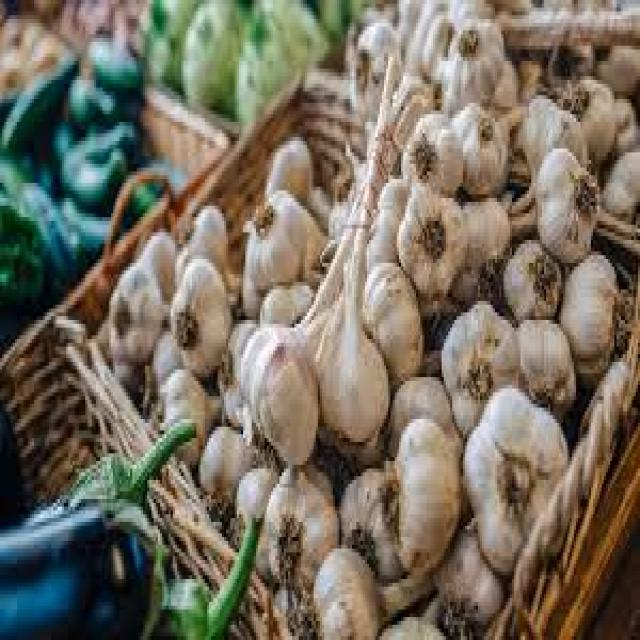Garlic: (449, 388, 569, 544), (373, 408, 472, 566), (432, 287, 520, 423), (316, 322, 408, 449), (226, 322, 313, 456), (256, 459, 331, 606), (238, 204, 327, 304), (162, 250, 240, 360), (529, 148, 598, 269), (499, 314, 580, 416), (403, 193, 472, 303), (557, 237, 616, 359), (358, 268, 430, 367), (306, 539, 377, 639), (109, 271, 170, 381), (451, 105, 523, 198), (438, 20, 514, 101), (404, 113, 466, 202), (504, 237, 561, 327)
